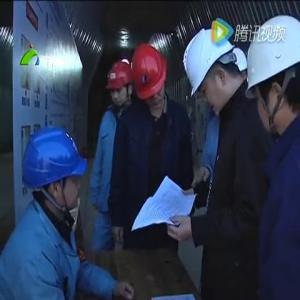blue: (22, 125, 87, 216)
red: (132, 41, 168, 107), (107, 60, 134, 107)
white: (248, 15, 300, 135), (184, 28, 239, 113)
